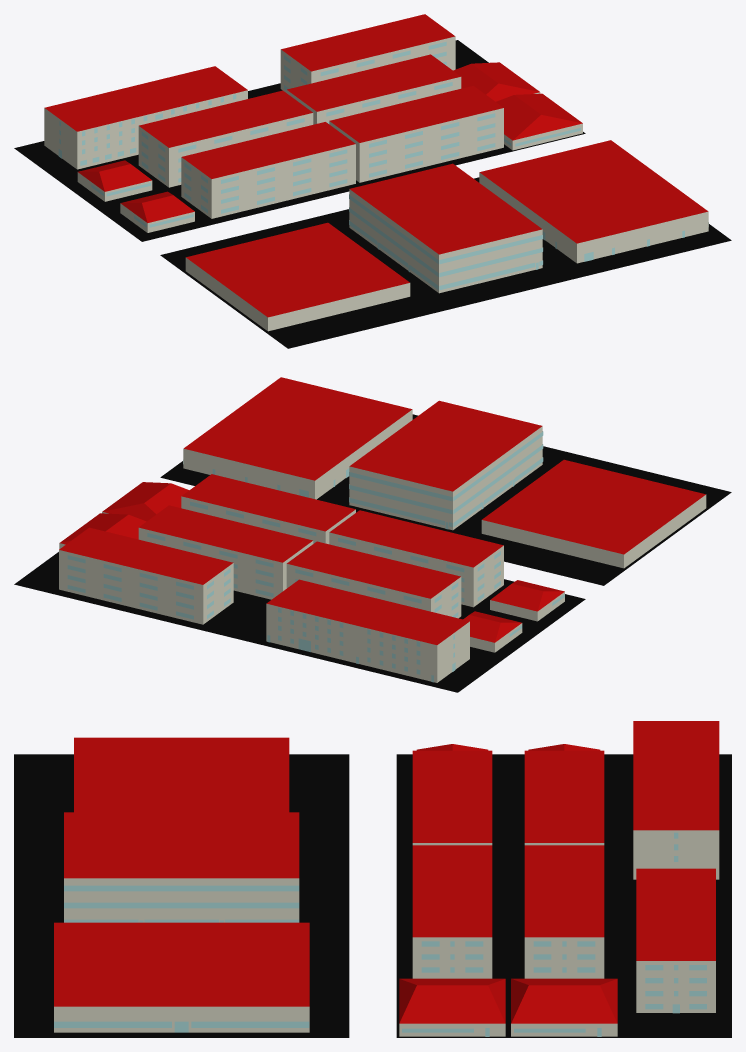
The picture shows the model from 3 angles, top to bottom: view 1: azimuth 30°, elevation 25°; view 2: azimuth 150°, elevation 25°; view 3: azimuth 270°, elevation 25°; orthographic projection. The views are drawn at different scales.
Parts seen in each view (by area): view 1: Roofs, Walls, Ground, Windows; view 2: Roofs, Walls, Ground, Windows; view 3: Roofs, Ground, Walls, Windows.
Boxes of the visible parts, x1,y1,x2,y2 form: Roofs: [44, 14, 708, 317]; Walls: [44, 36, 708, 331]; Ground: [14, 40, 731, 348]; Windows: [58, 41, 708, 290]; Roofs: [59, 377, 705, 644]; Walls: [59, 409, 706, 682]; Ground: [14, 414, 731, 692]; Windows: [67, 431, 564, 682]; Roofs: [54, 721, 719, 1023]; Ground: [14, 754, 731, 1037]; Walls: [54, 830, 719, 1036]; Windows: [54, 832, 706, 1036].
Size of the model in its own units: 142 by 12.19 by 152.
